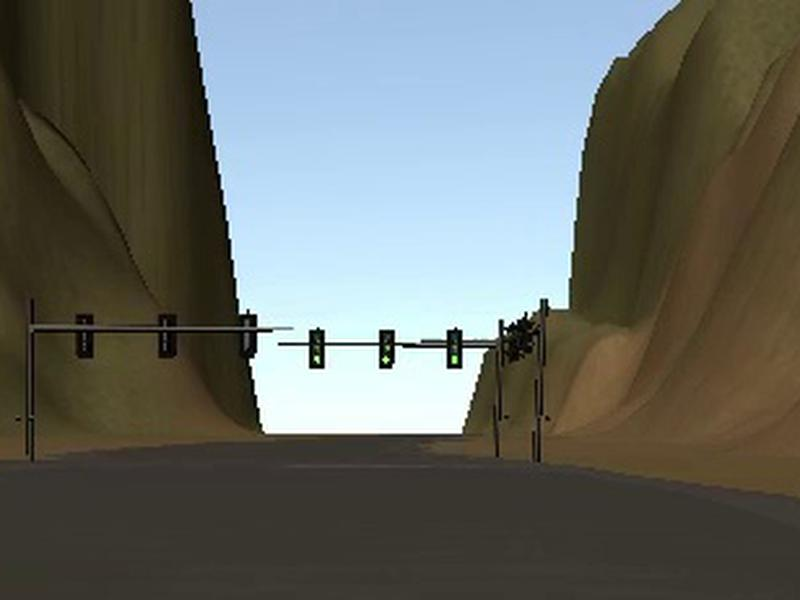Green: (377, 329, 396, 369), (446, 329, 463, 369), (308, 329, 325, 368)
